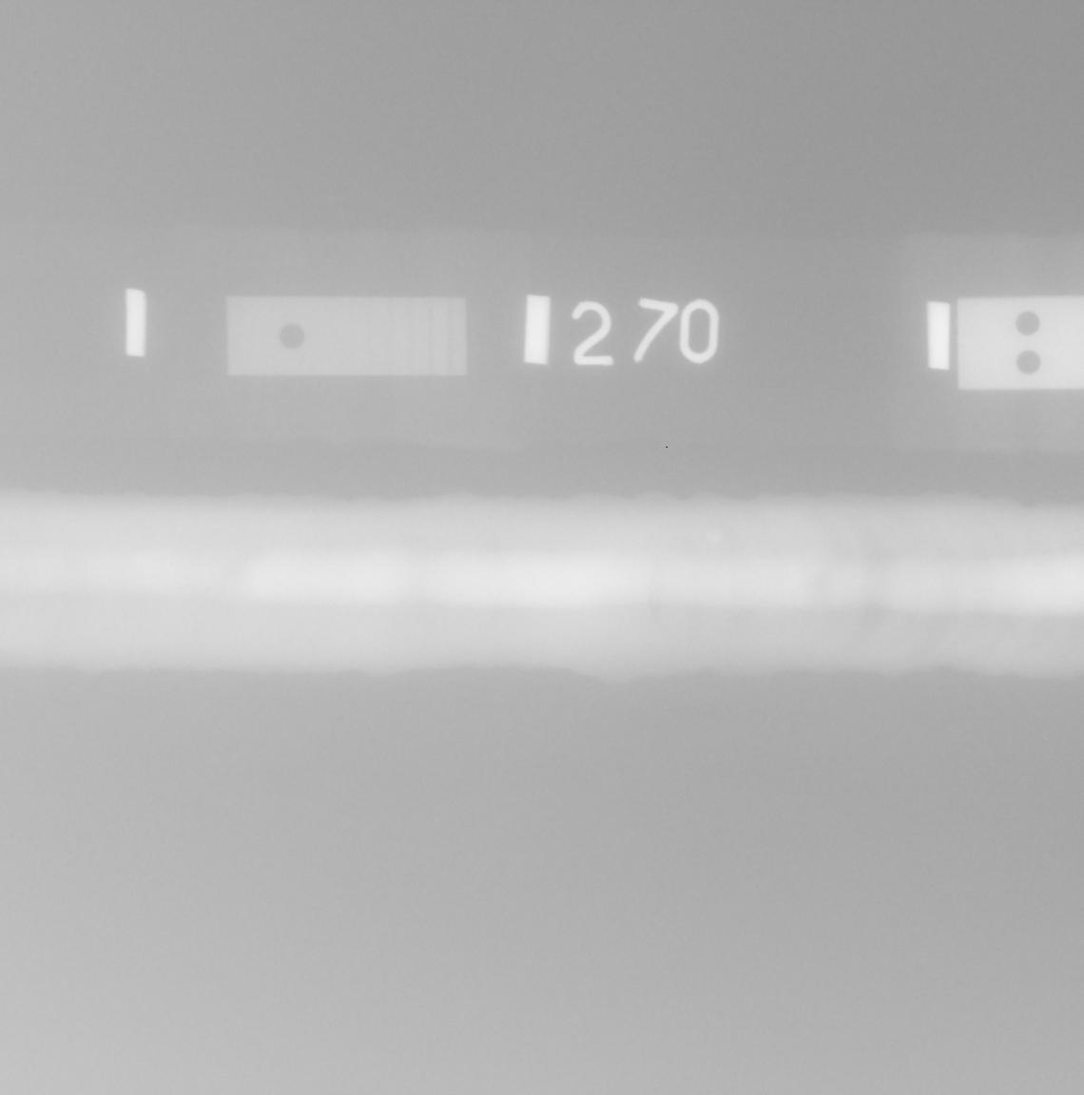Pore/Porosity: (205, 588, 211, 594)
Reference Standard 1: (225, 296, 467, 376)
